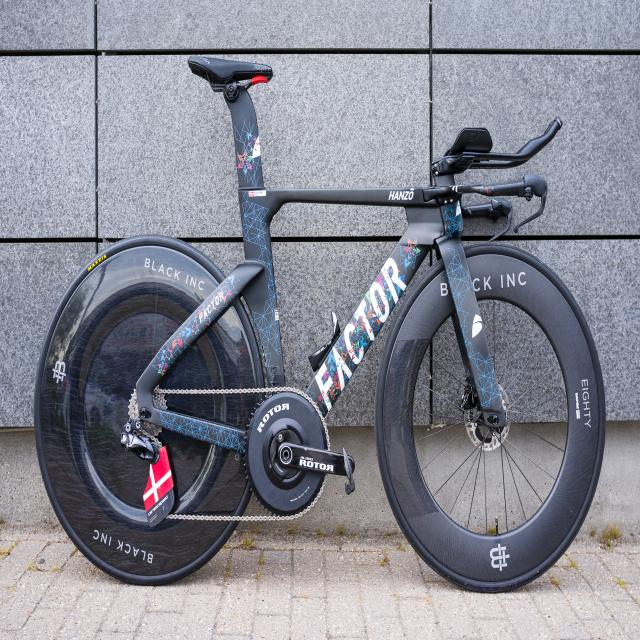TT-bike: (35, 54, 608, 596)
